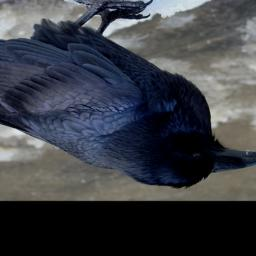Crow: (0, 0, 256, 189)
